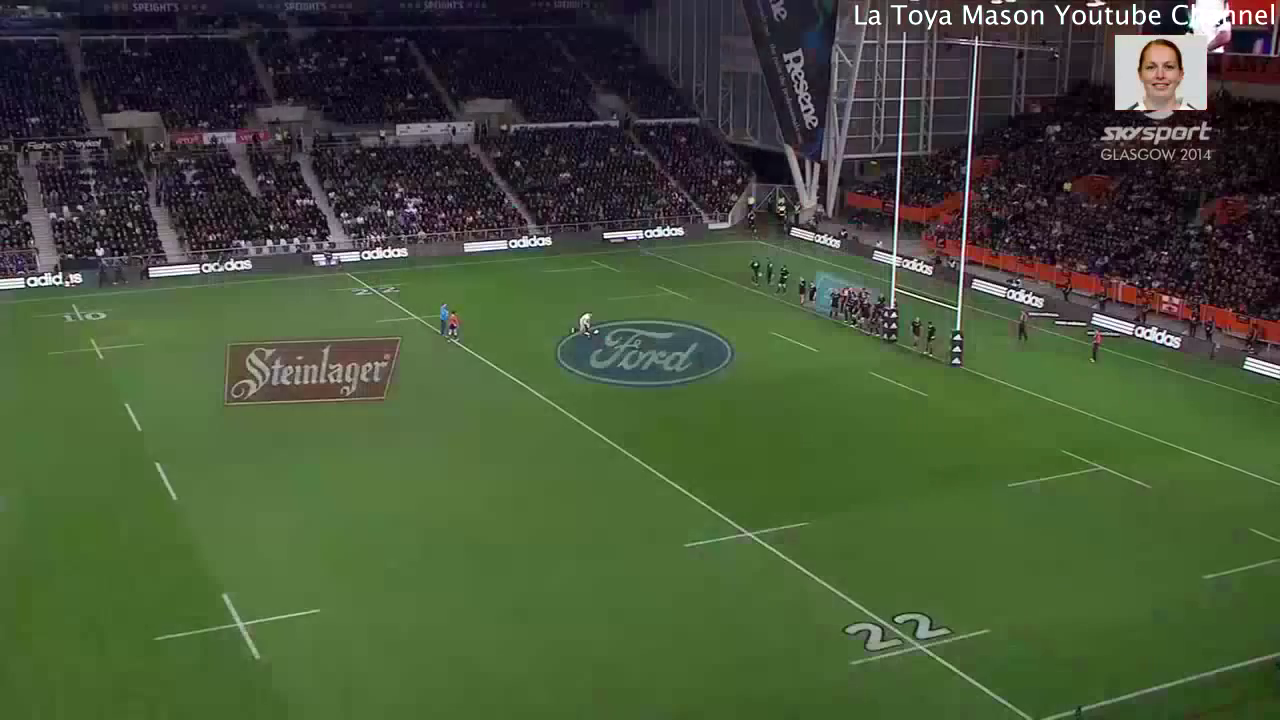10_metre: (142, 586, 332, 663), (44, 330, 151, 367), (29, 297, 119, 331)
ball: (593, 328, 599, 335)
player: (1084, 326, 1105, 366), (840, 284, 858, 326), (922, 320, 939, 363), (446, 309, 464, 344), (747, 255, 764, 292), (572, 311, 593, 340), (857, 293, 873, 330), (1015, 307, 1032, 341), (438, 300, 452, 337), (774, 264, 790, 295), (910, 316, 924, 350), (763, 257, 776, 290), (827, 287, 840, 319), (866, 303, 878, 334), (806, 279, 816, 310), (798, 275, 807, 307), (859, 285, 873, 300), (875, 290, 885, 306)
post: (872, 28, 993, 376)
